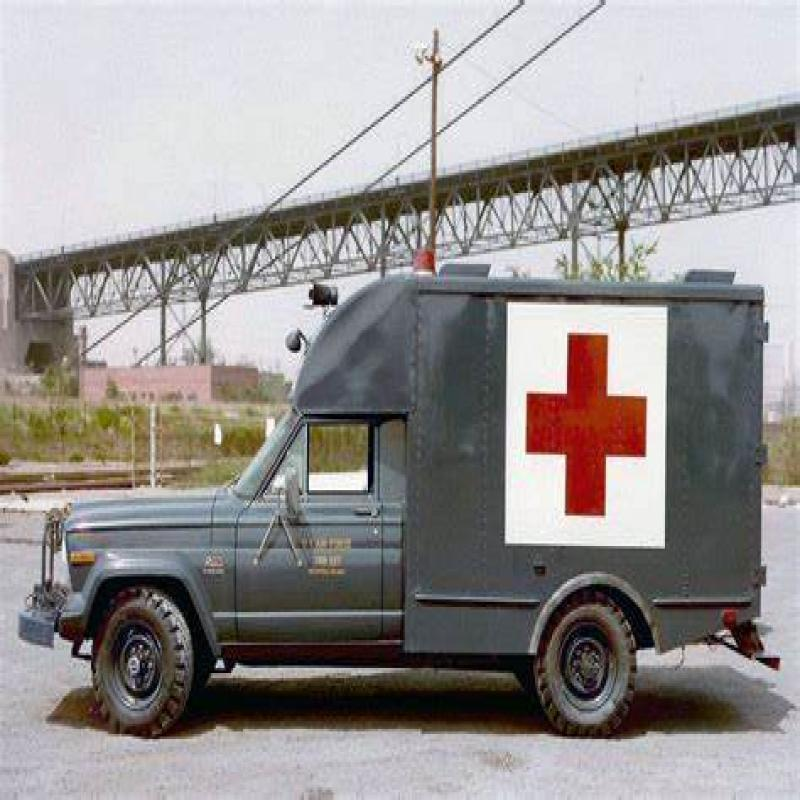AmbulanceSiren: (410, 234, 440, 308)
